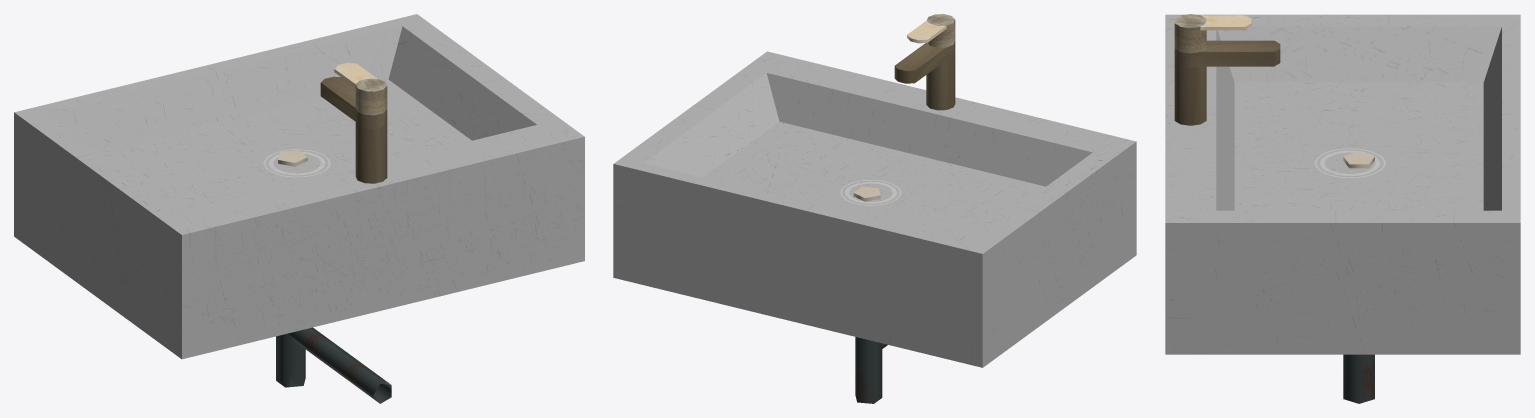
Rendered from sink.fbx.
3 renders of one model, left to right at view 1: azimuth 30°, elevation 25°; view 2: azimuth 150°, elevation 25°; view 3: azimuth 270°, elevation 25°, orthographic. The views are drawn at different scales.
Visible parts, largest first — view 1: polySurface6; view 2: polySurface6; view 3: polySurface6.
Boxes of the visible parts, <box> form: polySurface6: <box>14,14,584,403</box>; polySurface6: <box>613,14,1136,403</box>; polySurface6: <box>1165,14,1520,403</box>.
Size of the model in its own units: 121 by 102 by 87.39.
